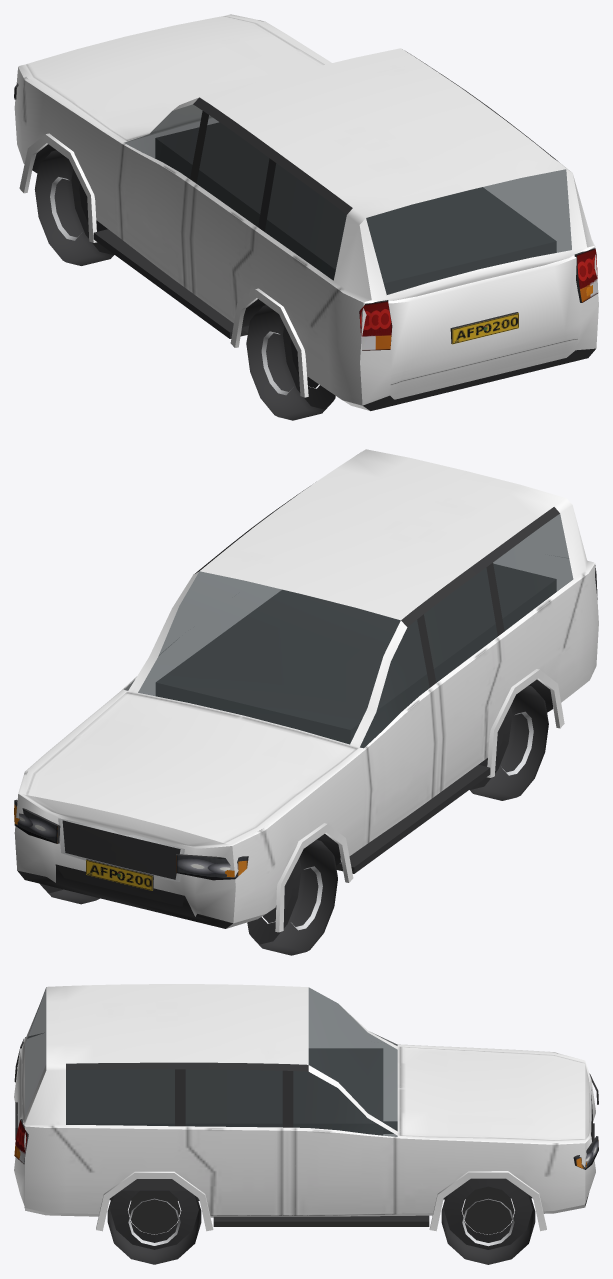
File: suv_landcruiser_lod1.glb
3 views of the same model, one above another, from view 1: azimuth 30°, elevation 25°; view 2: azimuth 150°, elevation 25°; view 3: azimuth 270°, elevation 25° (orthographic). The views are drawn at different scales.
Visible parts, largest first — view 1: body, wheel_rl_mesh, wheel_fl_mesh; view 2: body, wheel_fl_mesh, wheel_rl_mesh; view 3: body, wheel_fr_mesh, wheel_rr_mesh.
Part boxes in pixels (x1=…): body: x1=14, y1=14, x2=598, y2=411; wheel_rl_mesh: x1=246, y1=305, x2=335, y2=420; wheel_fl_mesh: x1=34, y1=150, x2=114, y2=265; body: x1=14, y1=449, x2=598, y2=932; wheel_fl_mesh: x1=247, y1=840, x2=337, y2=955; wheel_rl_mesh: x1=469, y1=685, x2=548, y2=800; body: x1=14, y1=984, x2=598, y2=1231; wheel_fr_mesh: x1=441, y1=1178, x2=535, y2=1264; wheel_rr_mesh: x1=107, y1=1190, x2=201, y2=1264.
Bounding box in the file's own units: 2.03 × 1.86 × 4.99.
11 materials, 5 textured.
